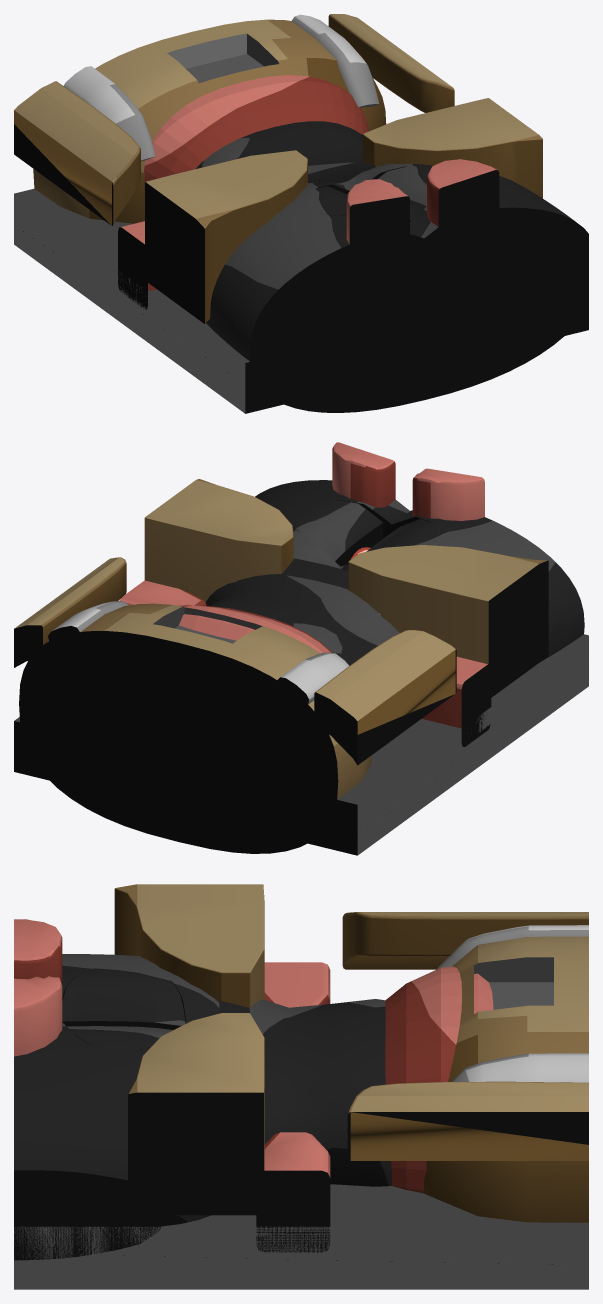
File: tusk_boss_core_3.glb
The picture shows the model from 3 angles, top to bottom: view 1: azimuth 30°, elevation 25°; view 2: azimuth 150°, elevation 25°; view 3: azimuth 270°, elevation 25°; orthographic projection. The views are drawn at different scales.
Parts seen in each view (by area): view 1: tusk_boss_core_3; view 2: tusk_boss_core_3; view 3: tusk_boss_core_3.
Part boxes in pixels (x1,y1,x2,y2): tusk_boss_core_3: (14, 14, 588, 413); tusk_boss_core_3: (14, 442, 588, 855); tusk_boss_core_3: (14, 884, 588, 1289).
Size of the model in its own units: 24 by 14.5 by 28.
